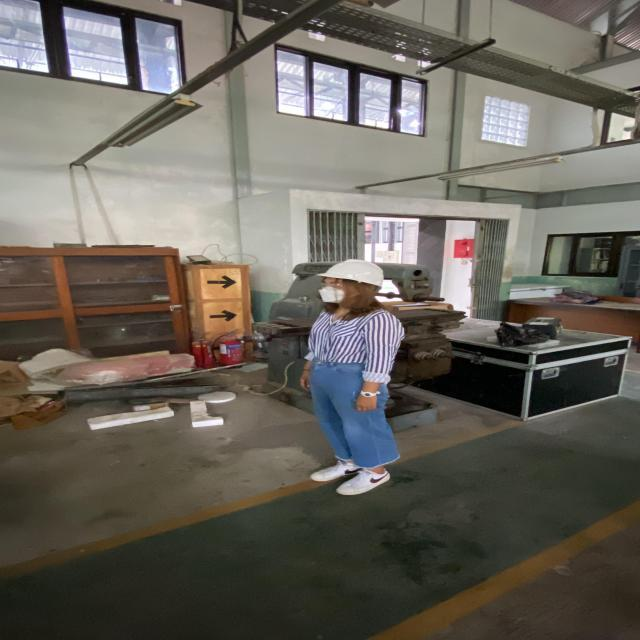glasses: (318, 280, 346, 291)
